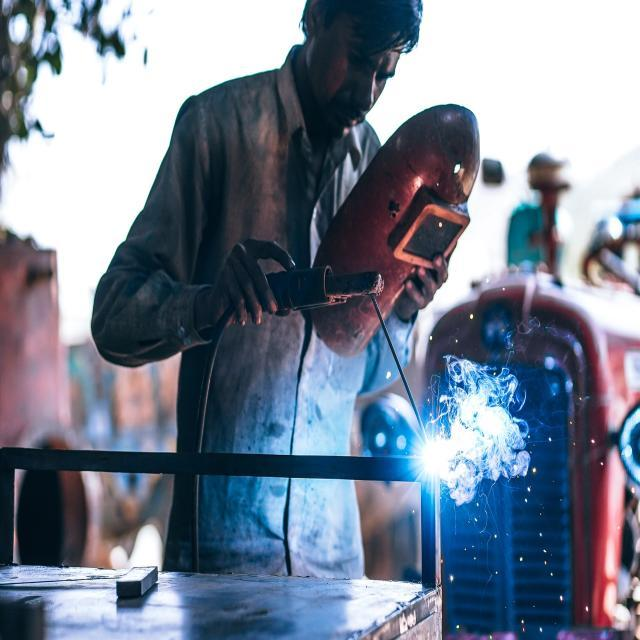without_helmet: (298, 0, 429, 138)
